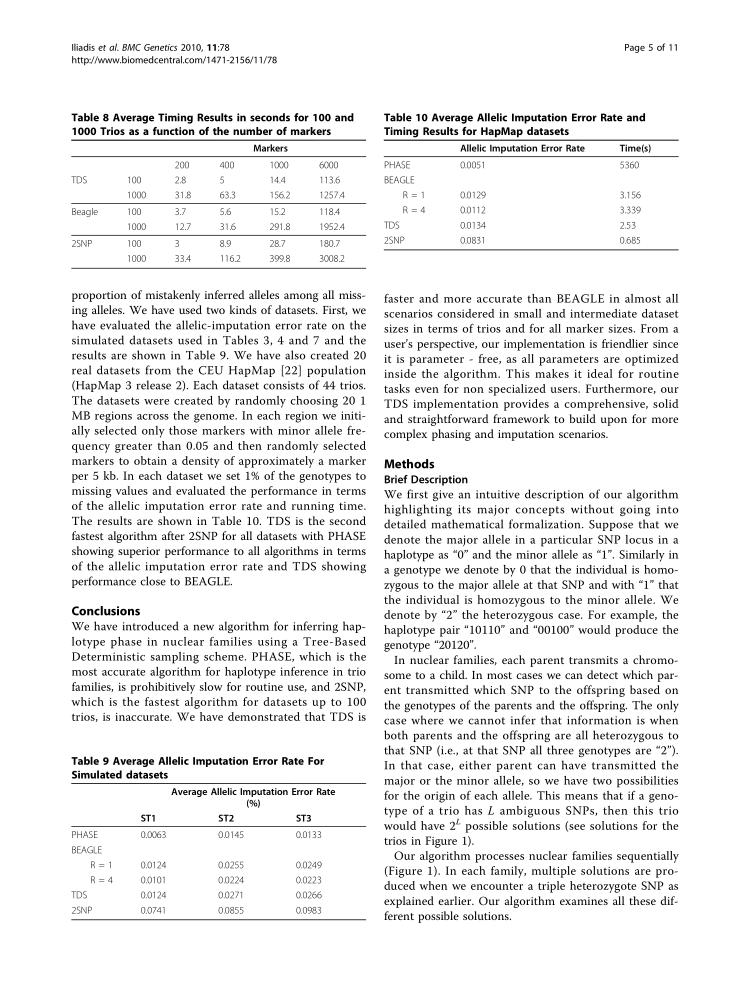table: (71, 786, 335, 915), (71, 142, 344, 264), (383, 142, 651, 246)
